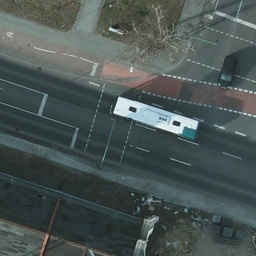car: (217, 55, 235, 89)
